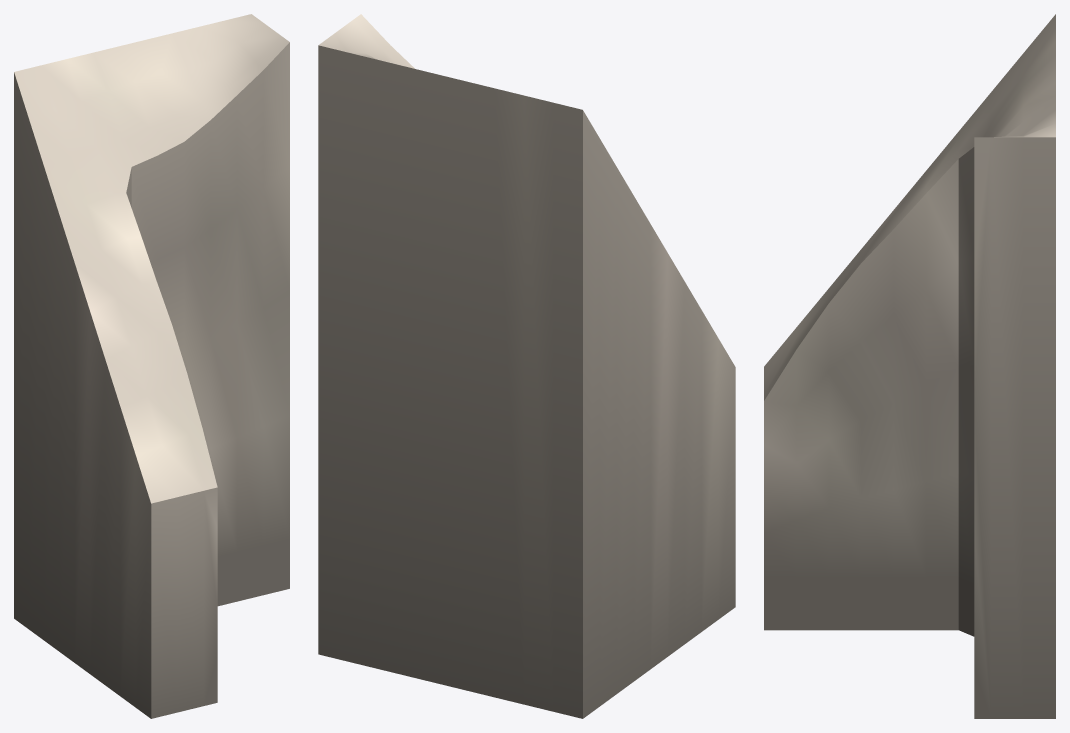
The model's file is SM_VKI_Rock_Cave_COFF_WallS.fbx.
3 renders of one model, left to right at view 1: azimuth 30°, elevation 25°; view 2: azimuth 150°, elevation 25°; view 3: azimuth 270°, elevation 25°, orthographic. The views are drawn at different scales.
Visible parts, largest first — view 1: SM_VKI_Rock_Cave_COFF_WallS.001; view 2: SM_VKI_Rock_Cave_COFF_WallS.001; view 3: SM_VKI_Rock_Cave_COFF_WallS.001.
Boxes of the visible parts, bbox=[...] form: SM_VKI_Rock_Cave_COFF_WallS.001: bbox=[14, 14, 289, 718]; SM_VKI_Rock_Cave_COFF_WallS.001: bbox=[318, 14, 735, 718]; SM_VKI_Rock_Cave_COFF_WallS.001: bbox=[764, 14, 1055, 718].
Size of the model in its own units: 1.5 by 3.3 by 1.5.
